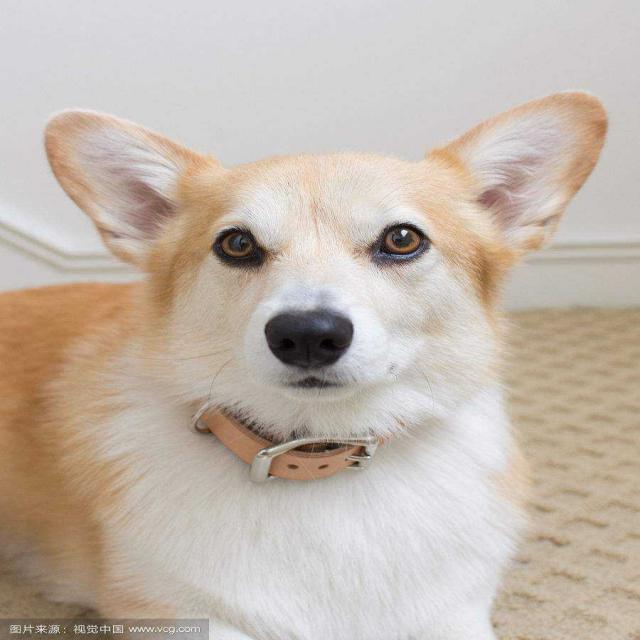eye: (369, 218, 430, 262), (209, 224, 267, 269)
